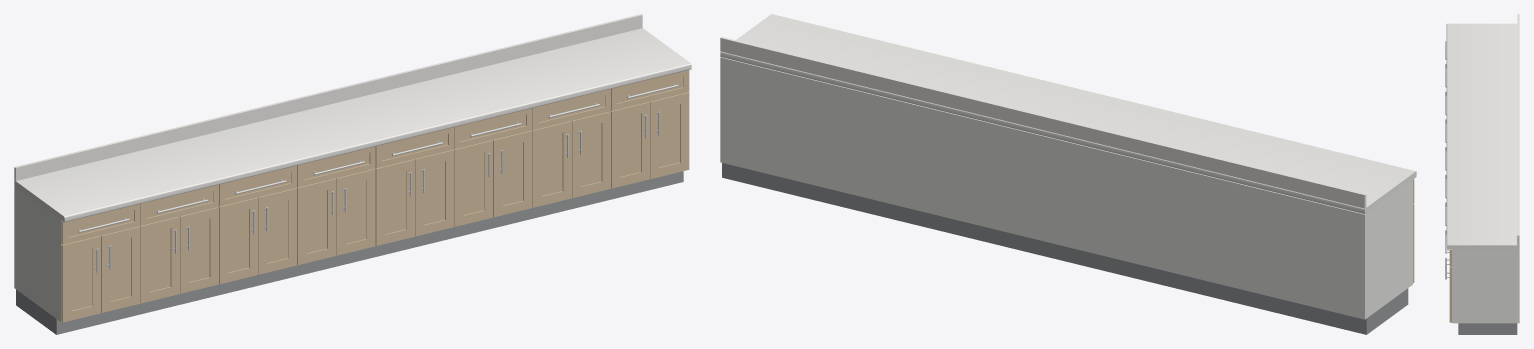
3 renders of one model, left to right at view 1: azimuth 30°, elevation 25°; view 2: azimuth 150°, elevation 25°; view 3: azimuth 270°, elevation 25°, orthographic. The views are drawn at different scales.
Visible parts, largest first — view 1: Tủ bếp dưới Dài=4500; Sâu=580; view 2: Tủ bếp dưới Dài=4500; Sâu=580; view 3: Tủ bếp dưới Dài=4500; Sâu=580.
Part boxes in pixels (x1,y1,x2,y2): Tủ bếp dưới Dài=4500; Sâu=580: [14, 14, 691, 334]; Tủ bếp dưới Dài=4500; Sâu=580: [720, 14, 1416, 334]; Tủ bếp dưới Dài=4500; Sâu=580: [1445, 14, 1519, 334].
Bounding box in the file's own units: 4.5 × 0.94 × 0.635.
